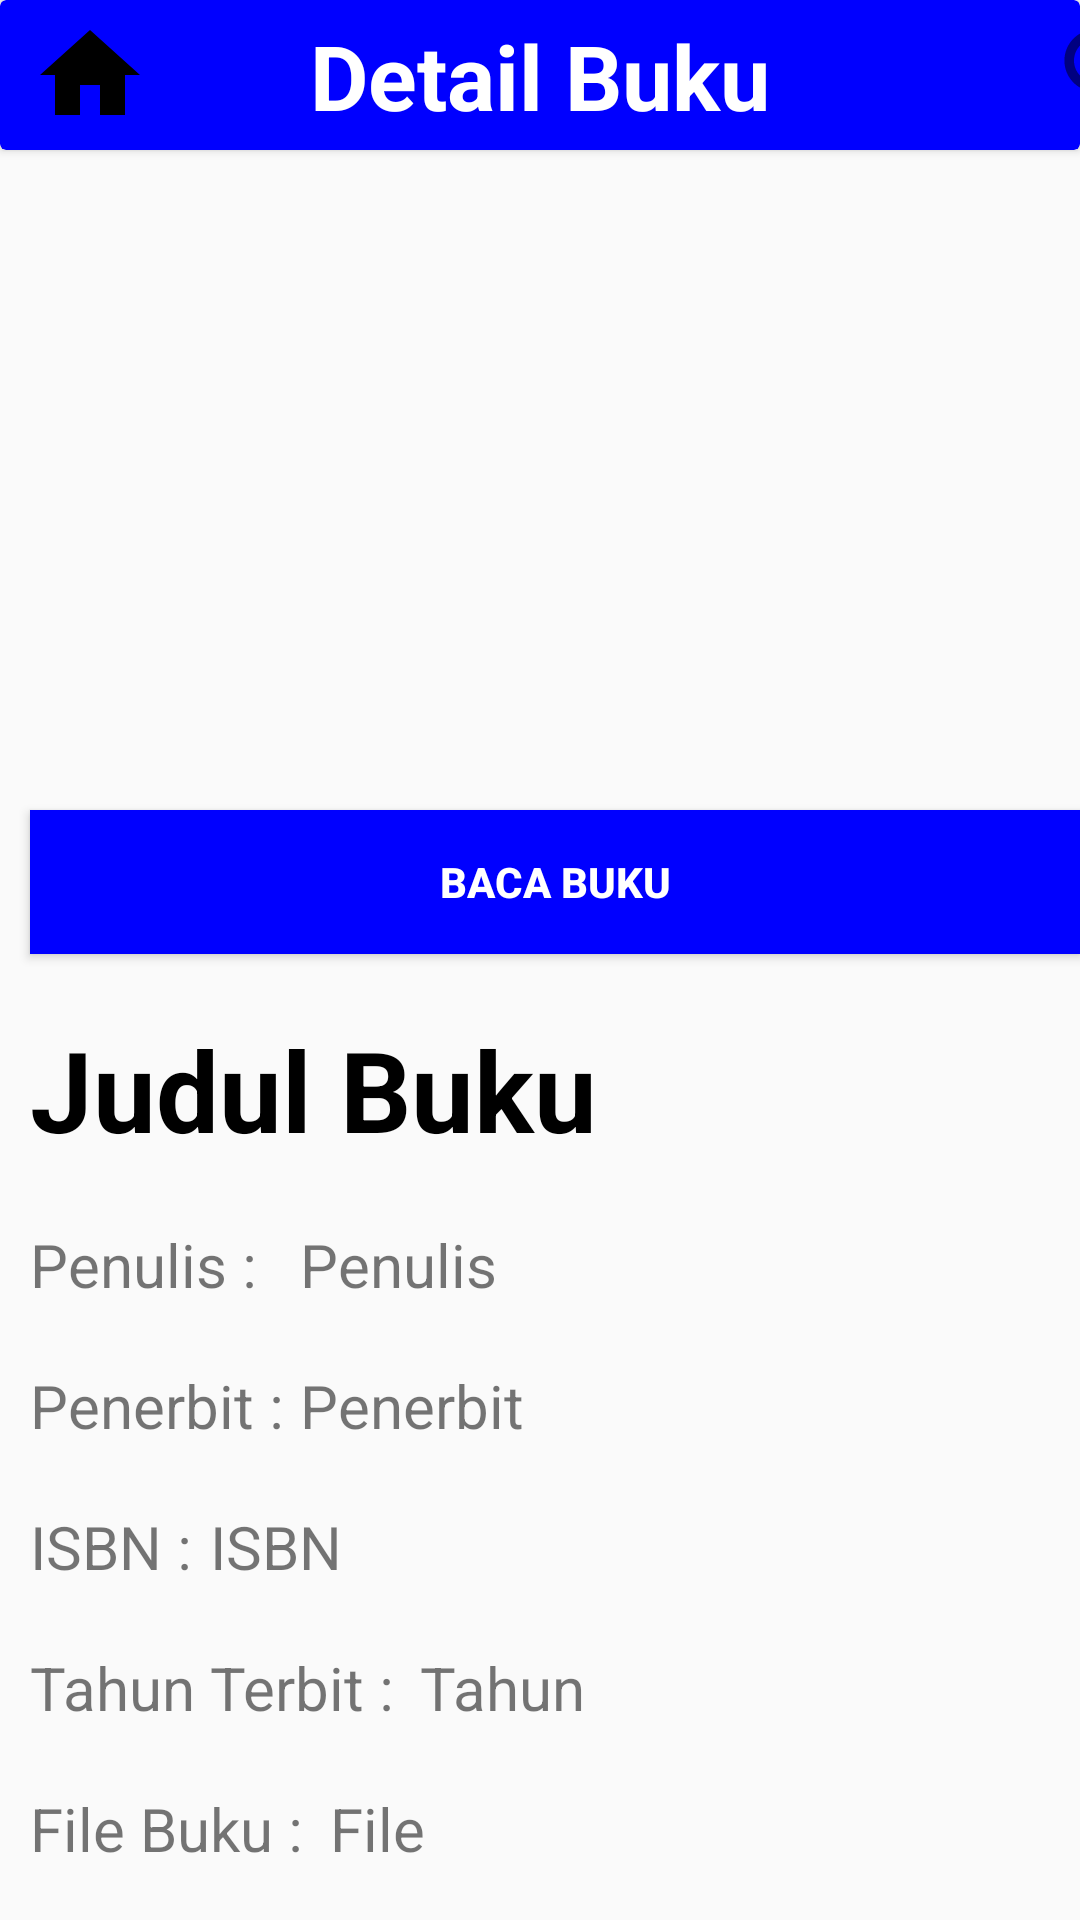

Locate icon controls on the screen. Image size 1080px×1920px, boxes as detection(x1, y1, x2, y2).
home: detection(40, 30, 140, 115)
